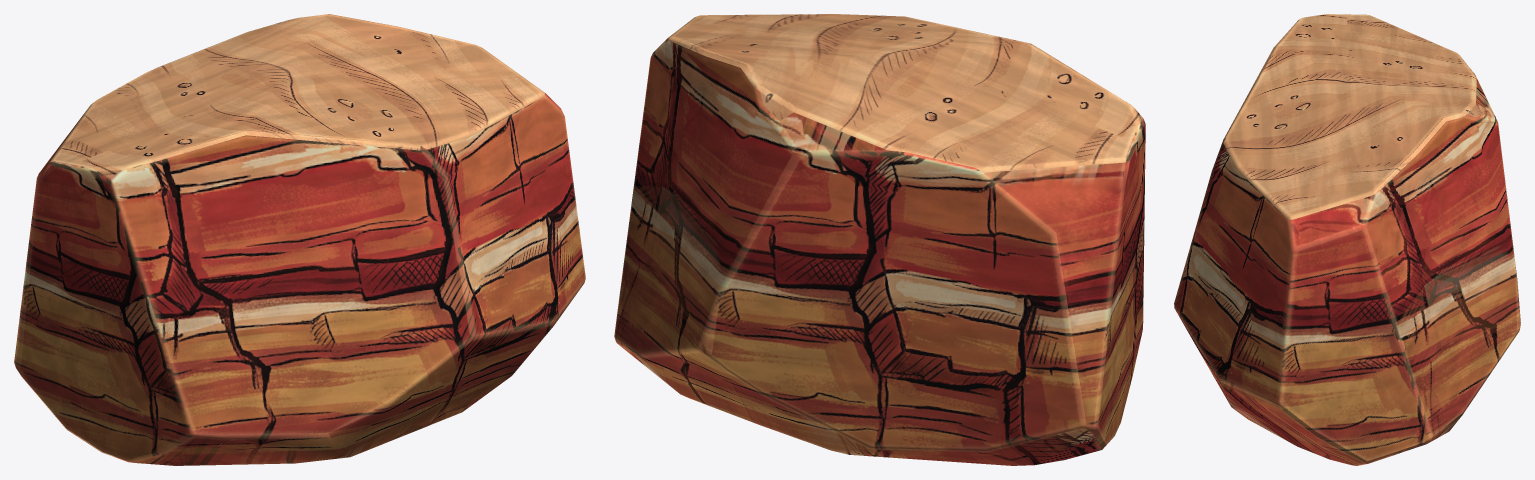
File: rock_06.glb
The picture shows the model from 3 angles, left to right: view 1: azimuth 30°, elevation 25°; view 2: azimuth 150°, elevation 25°; view 3: azimuth 270°, elevation 25°; orthographic projection. The views are drawn at different scales.
Parts seen in each view (by area): view 1: rock_06; view 2: rock_06; view 3: rock_06.
Boxes of the visible parts, <box> form: rock_06: <box>14,14,585,465</box>; rock_06: <box>614,14,1145,465</box>; rock_06: <box>1174,14,1520,465</box>.
Bounding box in the file's own units: 1.97 × 1.26 × 1.35.
1 material, 1 textured.
